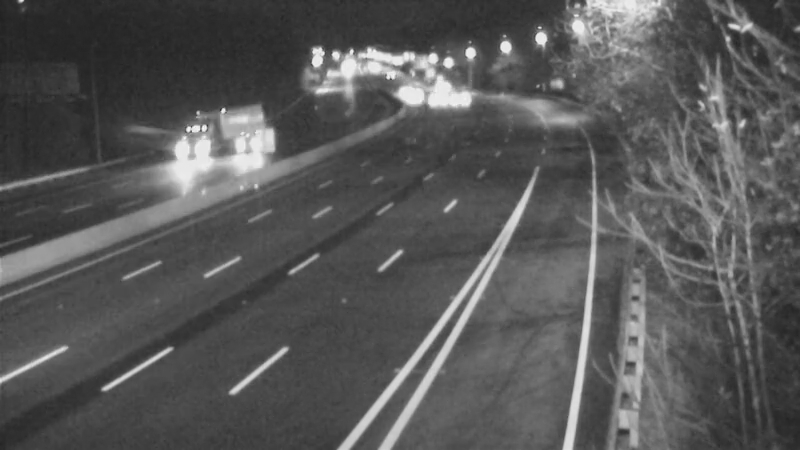vehicle: (364, 50, 414, 100), (416, 63, 466, 113), (385, 71, 435, 121), (433, 72, 483, 122), (412, 75, 462, 125), (170, 125, 220, 175), (222, 119, 272, 169)
